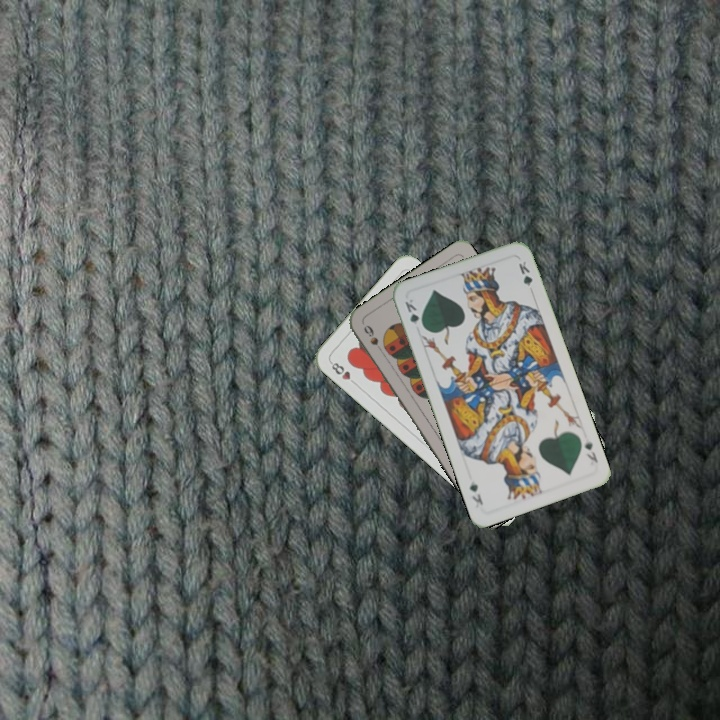GK: (401, 295, 427, 332), (580, 435, 600, 465)
H8: (326, 357, 360, 388)
S9: (359, 321, 387, 357)
